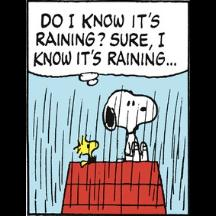snoopy: (103, 89, 160, 164)
